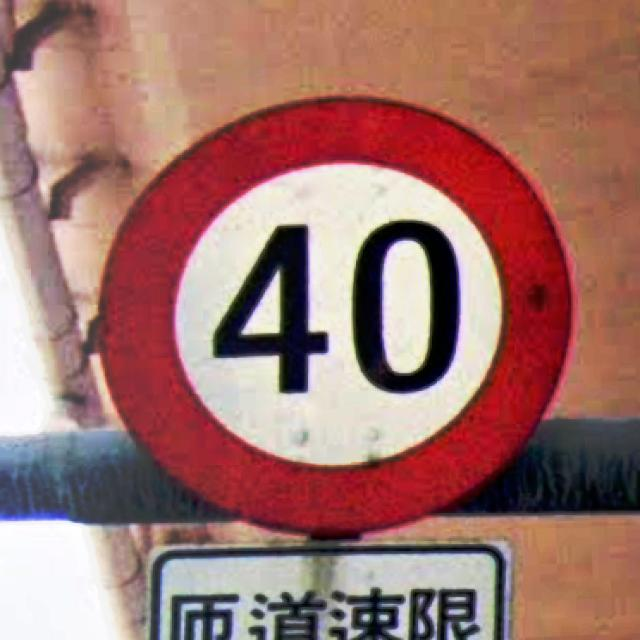max40: (93, 91, 576, 536)
